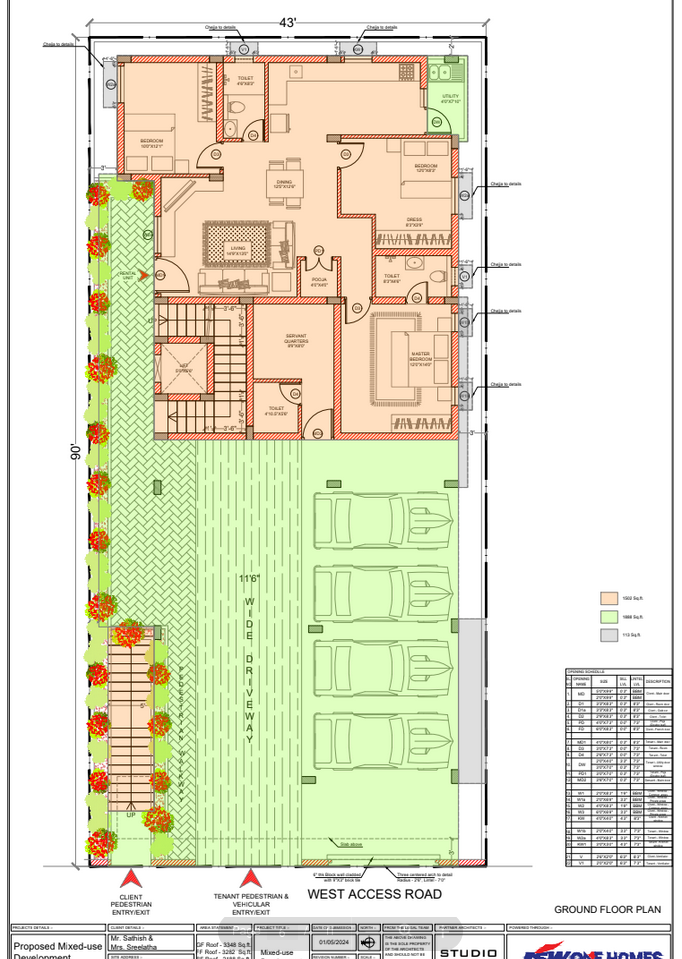door: (154, 256, 192, 294), (302, 408, 333, 439), (338, 141, 366, 171), (344, 298, 372, 326), (424, 106, 452, 134), (197, 141, 223, 170), (404, 280, 430, 303), (279, 380, 301, 407), (241, 118, 266, 141), (319, 256, 334, 274), (305, 257, 319, 273)
